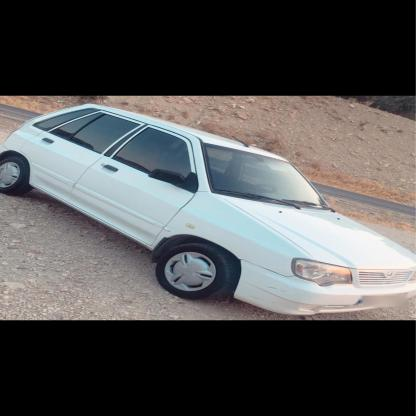Car: (0, 107, 416, 324)
